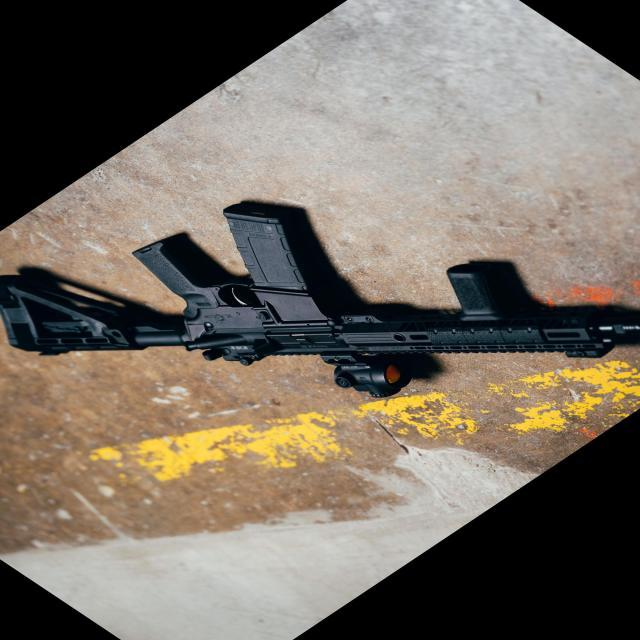weapon: (0, 201, 640, 402)
